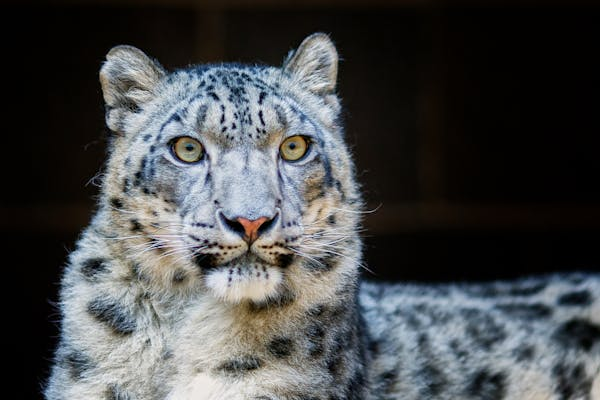Leopard: (42, 30, 600, 400)
